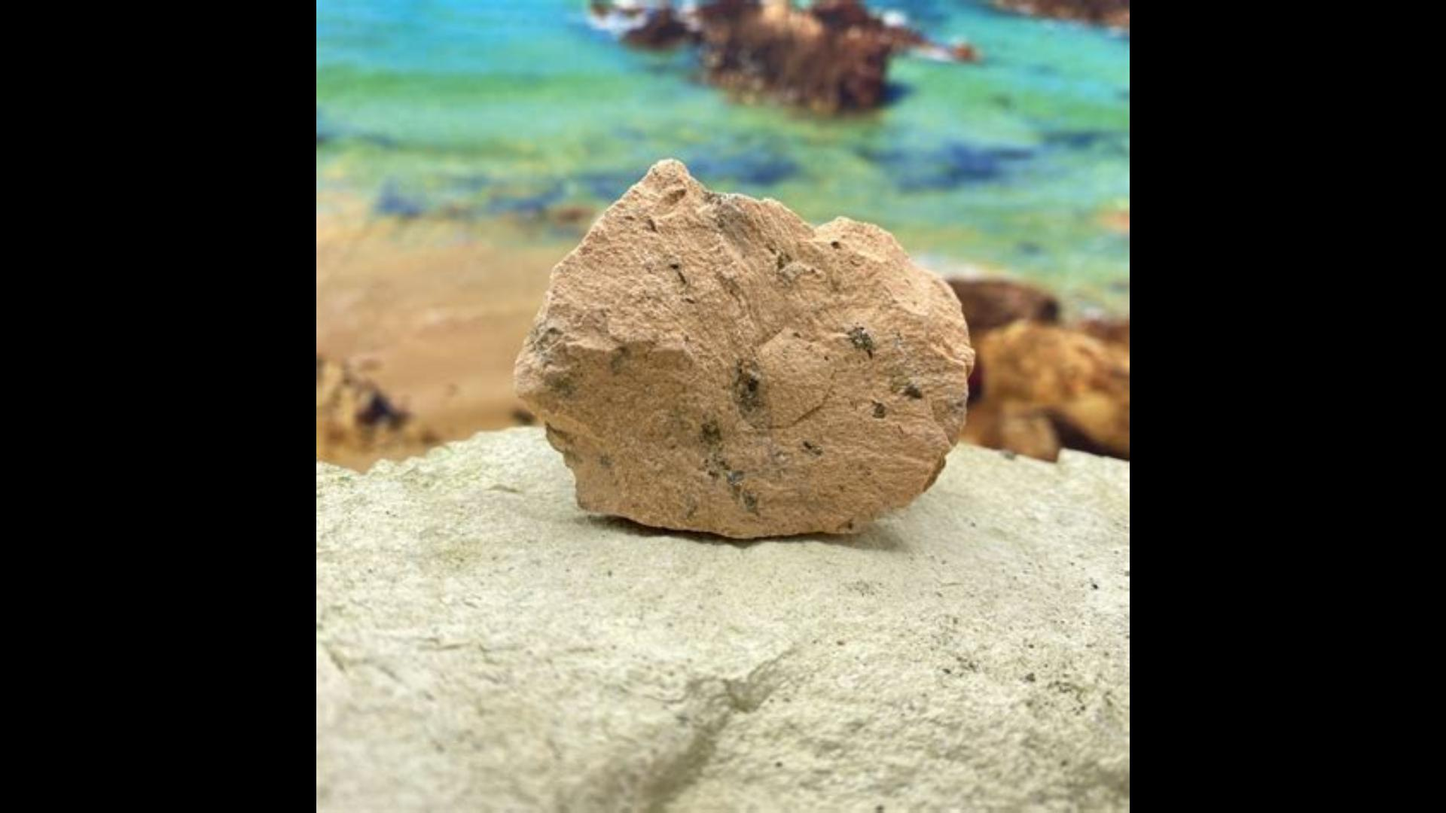rock: (515, 160, 972, 535)
